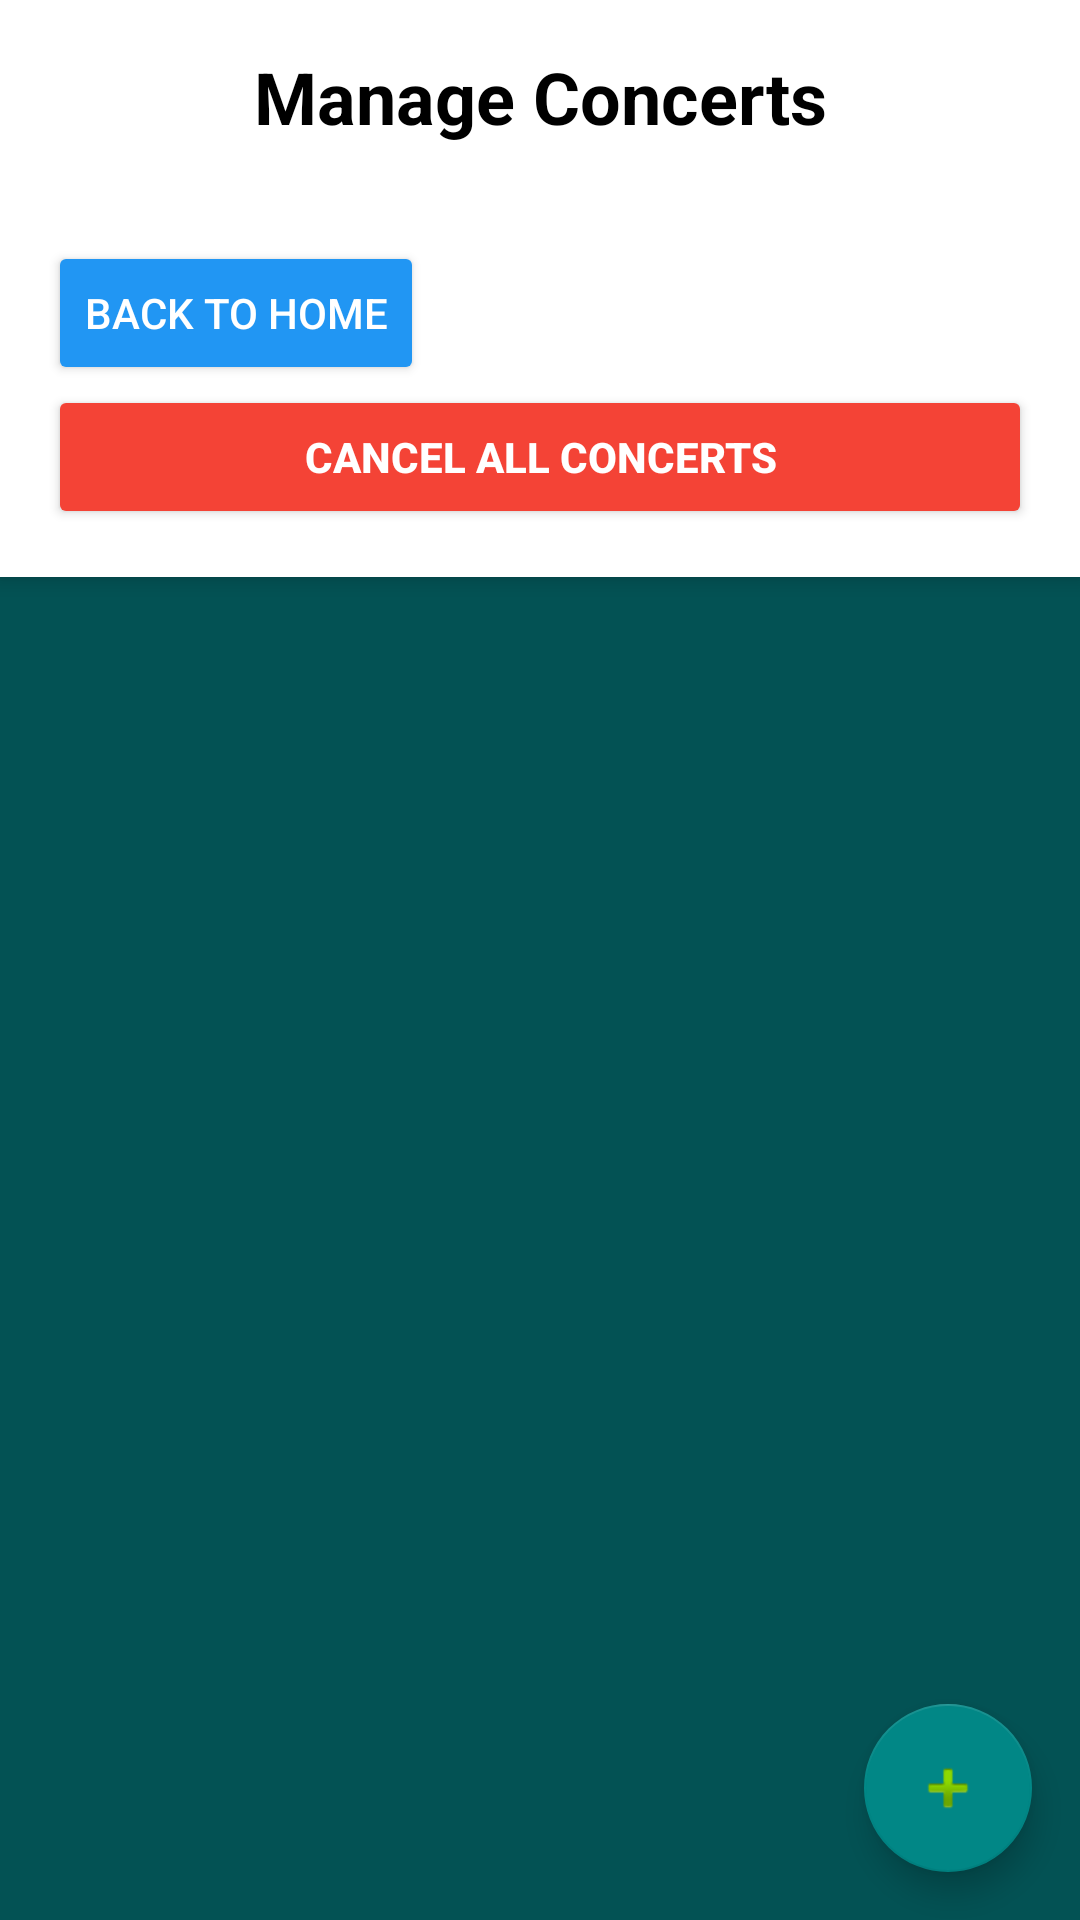

Named icons in this screenshot (1080x1920) and their centers, (x=x, y=y):
Add Concert: (x=948, y=1788)
